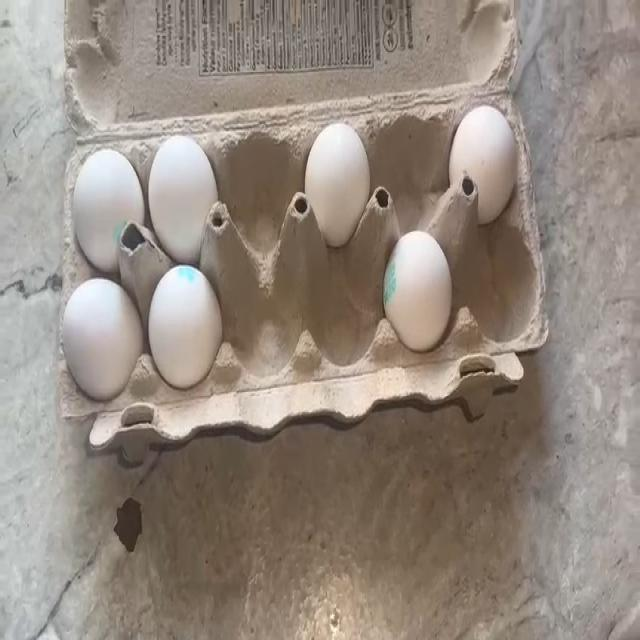Egg: (308, 113, 372, 236), (152, 272, 225, 376), (66, 146, 136, 248), (444, 106, 514, 196), (68, 284, 130, 382), (382, 252, 448, 341), (154, 136, 207, 232)
